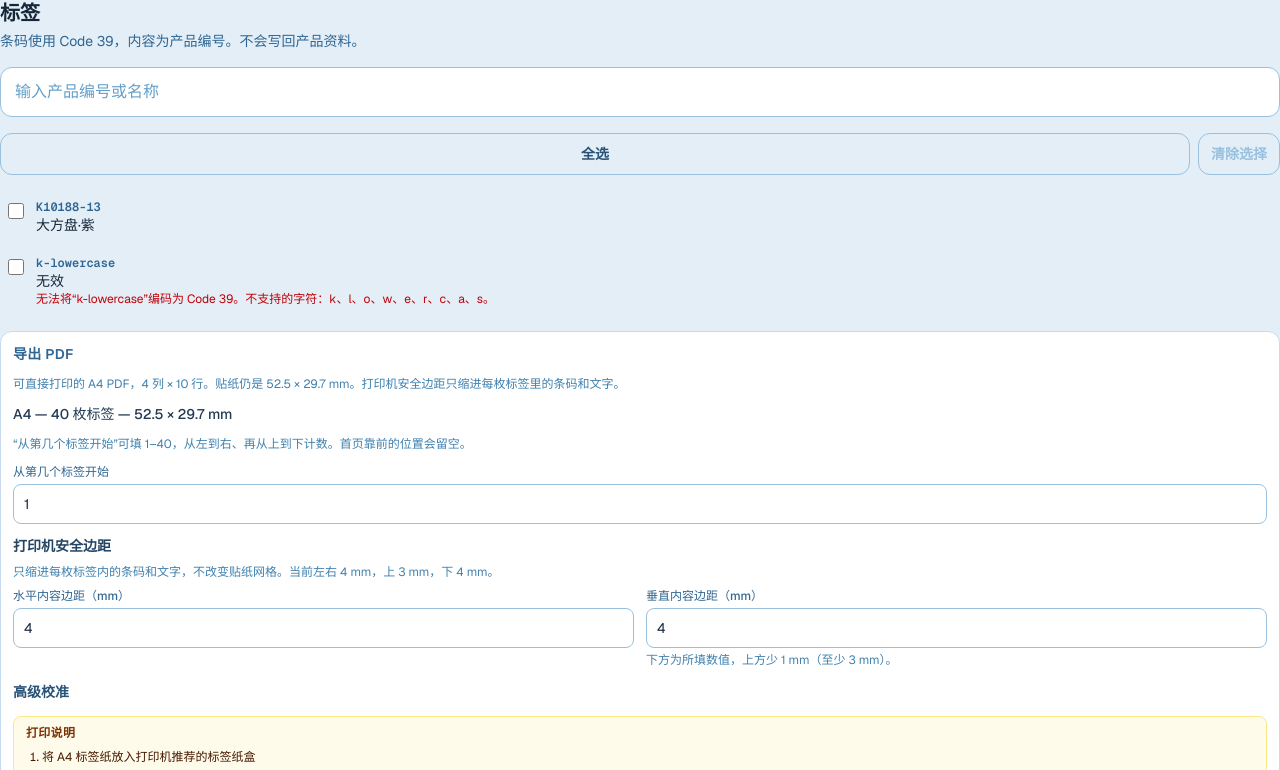
it: PDF export layout › offers PDF export with the A4 template, calibration and print instructions
The width and height of the screenshot is (1280, 770).
Check: the checkbox named "选择 K10188-13" is shown, box [8,203,24,219]
Check: the text "A4 — 40 枚标签 — 52.5 × 29.7 mm" is shown, box [13,405,232,423]
Click the button "高级校准" at (41, 692), box [13,682,69,702]
(page scrolled)
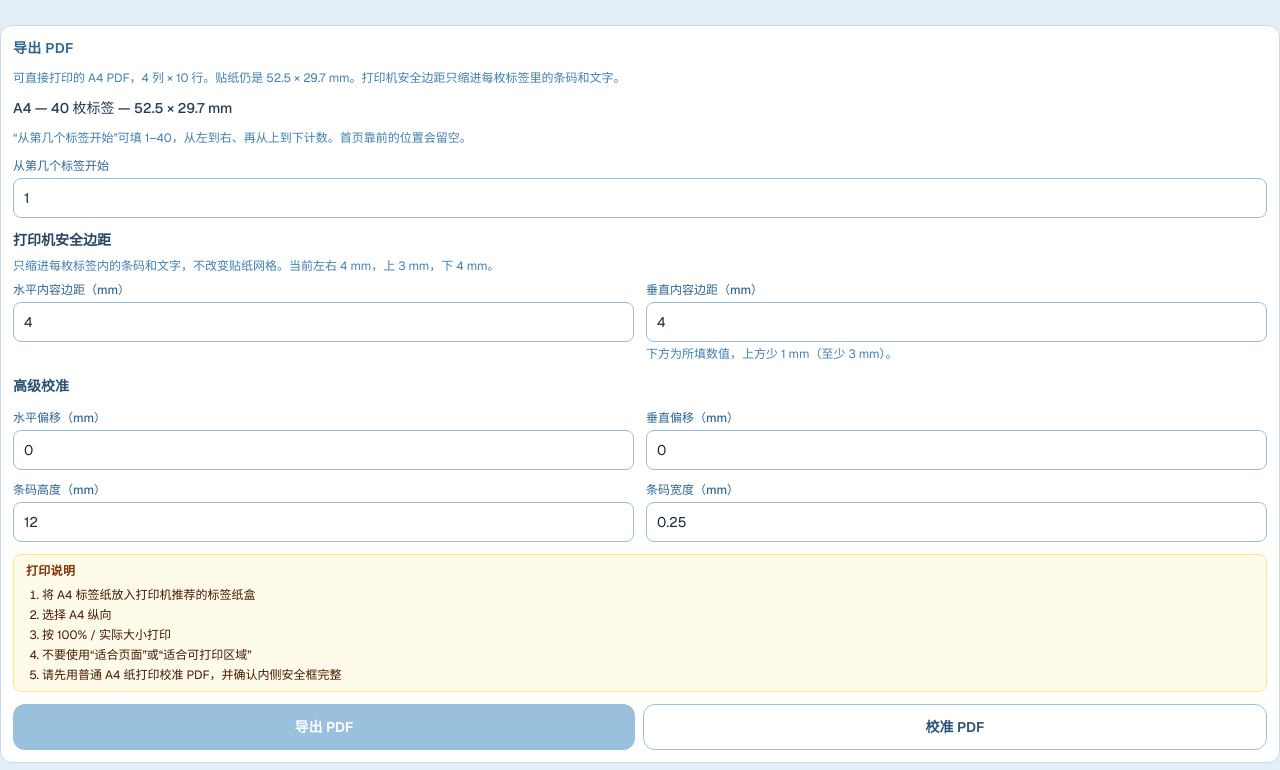
Check: the number field labelled "水平偏移（mm）" is shown, box [13,430,634,470]
Check: the number field labelled "垂直偏移（mm）" is shown, box [646,430,1267,470]
Check: the number field labelled "条码高度（mm）" is shown, box [13,502,634,542]
